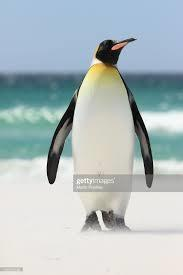king: (46, 25, 162, 247)
